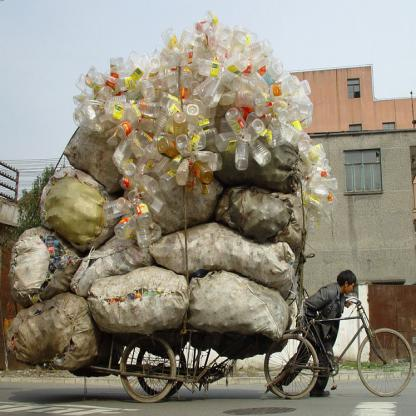overloaded-truck: (42, 18, 324, 338)
